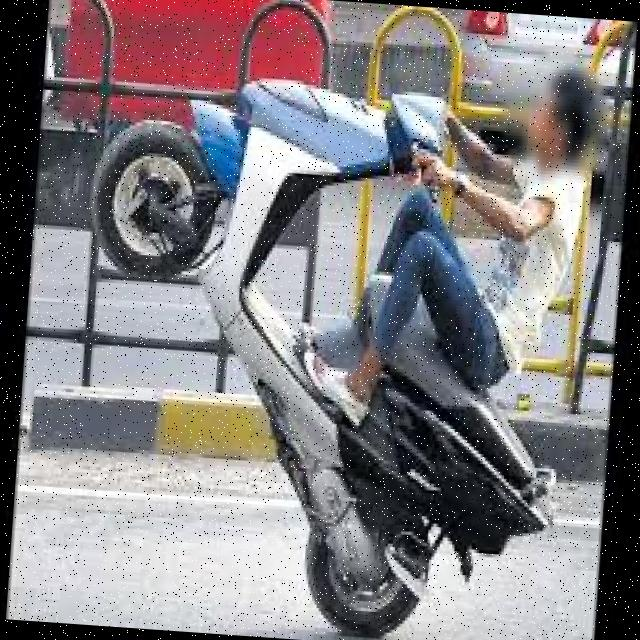Wheeling: (64, 45, 600, 638)
